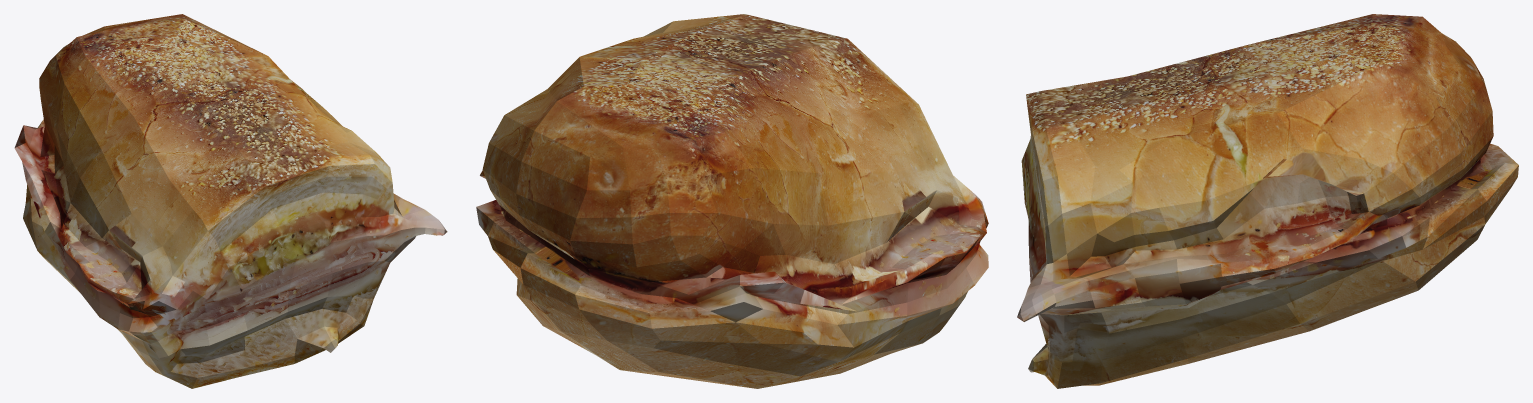
File: sandwichok.glb
3 renders of one model, left to right at view 1: azimuth 30°, elevation 25°; view 2: azimuth 150°, elevation 25°; view 3: azimuth 270°, elevation 25°, orthographic. The views are drawn at different scales.
Visible parts, largest first — view 1: Sandwich_Sandwich_0; view 2: Sandwich_Sandwich_0; view 3: Sandwich_Sandwich_0.
Boxes of the visible parts, x1,y1,x2,y2 form: Sandwich_Sandwich_0: [14, 14, 447, 388]; Sandwich_Sandwich_0: [476, 14, 988, 388]; Sandwich_Sandwich_0: [1017, 14, 1518, 388].
Size of the model in its own units: 0.3581 by 0.2734 by 0.3882.
Materials: 1 (1 with a texture image).
